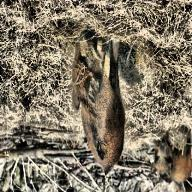boar: (70, 34, 138, 181), (140, 132, 191, 185)
